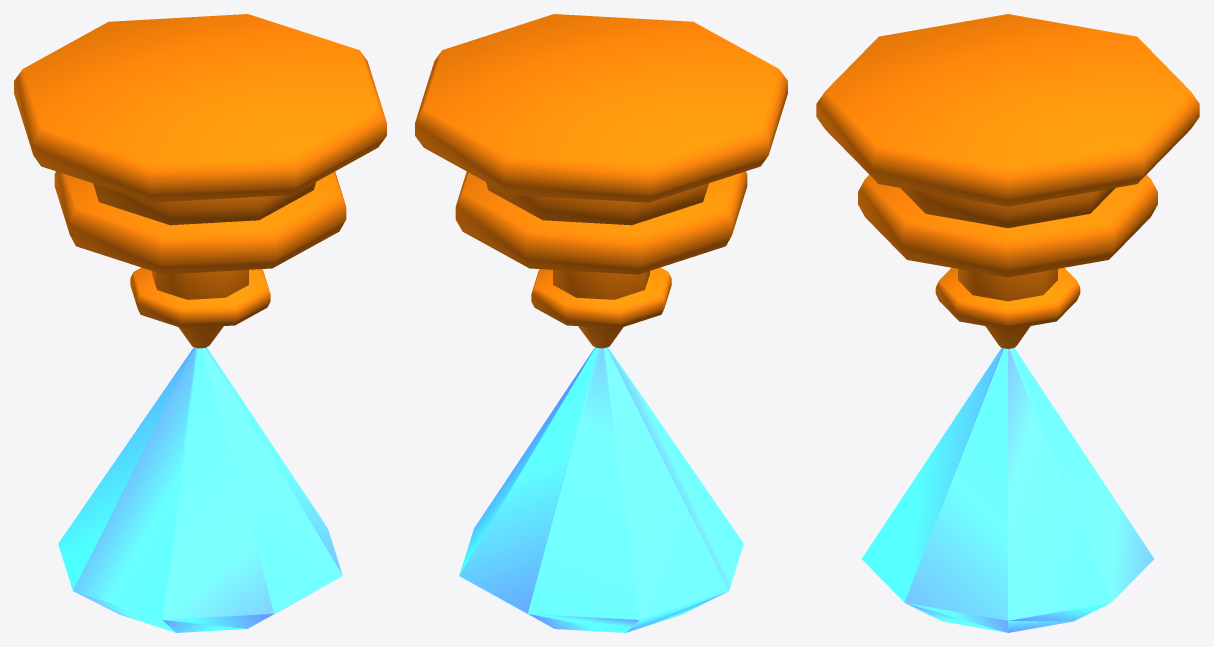
The model's file is bronze_pommel_188.glb.
3 renders of one model, left to right at view 1: azimuth 30°, elevation 25°; view 2: azimuth 150°, elevation 25°; view 3: azimuth 270°, elevation 25°, orthographic.
Parts seen in each view (by area): view 1: bronze_pommel_188; view 2: bronze_pommel_188; view 3: bronze_pommel_188.
Part boxes in pixels (left/top/right/bottom): bronze_pommel_188: left=14, top=14, right=386, bottom=632; bronze_pommel_188: left=415, top=14, right=787, bottom=632; bronze_pommel_188: left=816, top=14, right=1199, bottom=632.
Size of the model in its own units: 1.76 by 2.54 by 1.76.
1 material, 1 textured.
